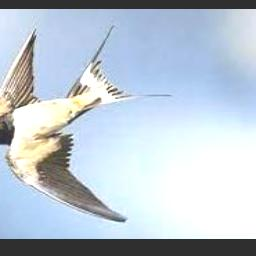Swallow: (0, 26, 172, 224)
